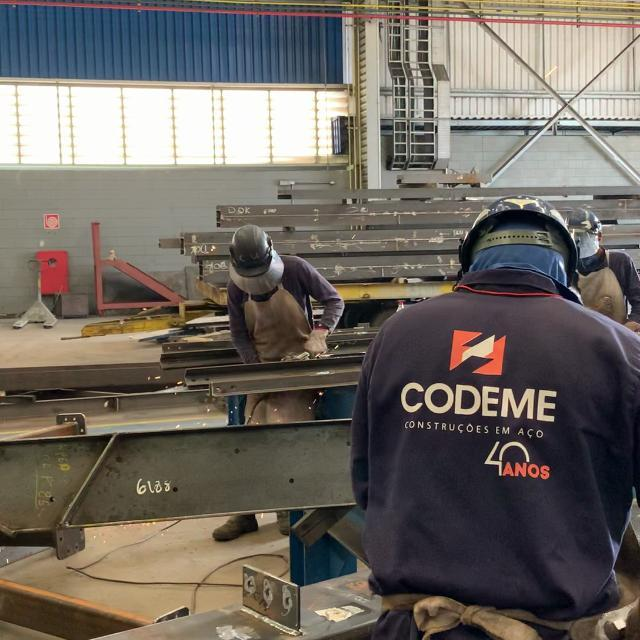eye-glass: (227, 249, 285, 295), (571, 231, 601, 260)
face-shield: (304, 328, 328, 359), (626, 321, 640, 330)
glove: (459, 195, 581, 283), (231, 224, 273, 279), (568, 205, 602, 230)
mask: (349, 196, 637, 621), (226, 225, 345, 364), (563, 207, 640, 335)
safety-shoe: (212, 517, 261, 544), (275, 510, 290, 538)
